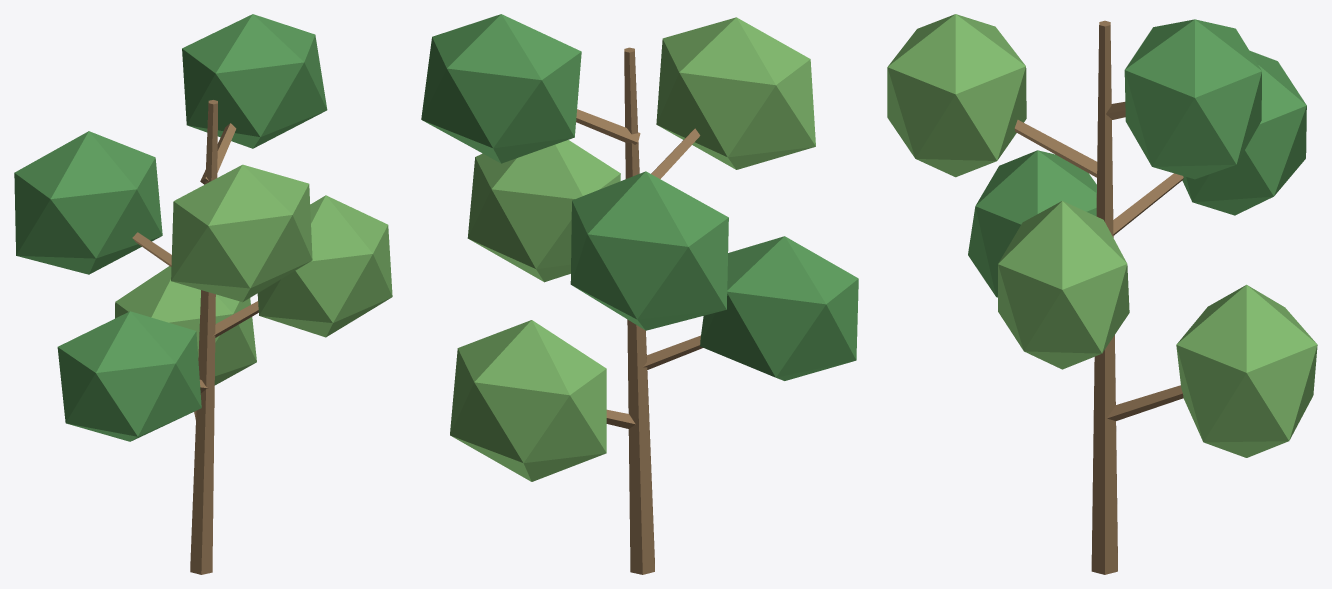
The model's file is oak_sapling_03.glb.
The picture shows the model from 3 angles, left to right: view 1: azimuth 30°, elevation 25°; view 2: azimuth 150°, elevation 25°; view 3: azimuth 270°, elevation 25°; orthographic projection. The views are drawn at different scales.
Visible parts, largest first — view 1: Oak_sapling_03; view 2: Oak_sapling_03; view 3: Oak_sapling_03.
Part boxes in pixels (x1=…): Oak_sapling_03: x1=14, y1=14, x2=392, y2=574; Oak_sapling_03: x1=421, y1=14, x2=858, y2=574; Oak_sapling_03: x1=887, y1=14, x2=1317, y2=574.
Size of the model in its own units: 1.95 by 2.83 by 1.83.
